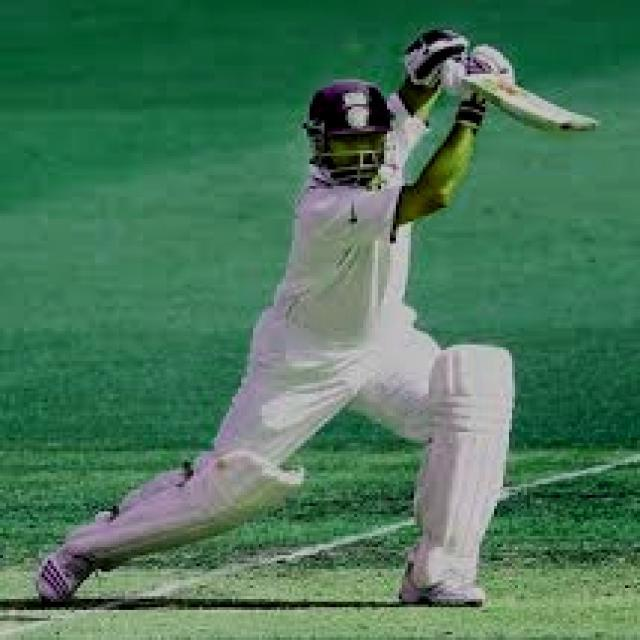bat: (456, 54, 607, 140)
toe: (553, 119, 605, 137)
